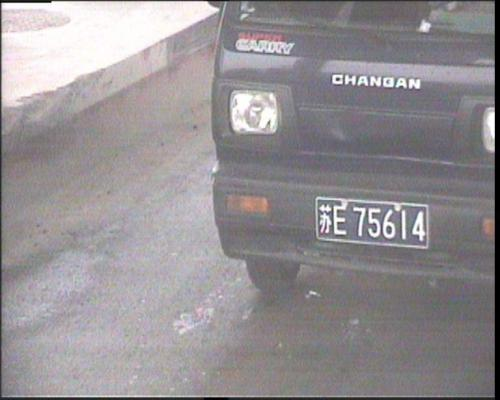Carplate: (306, 190, 436, 255)
